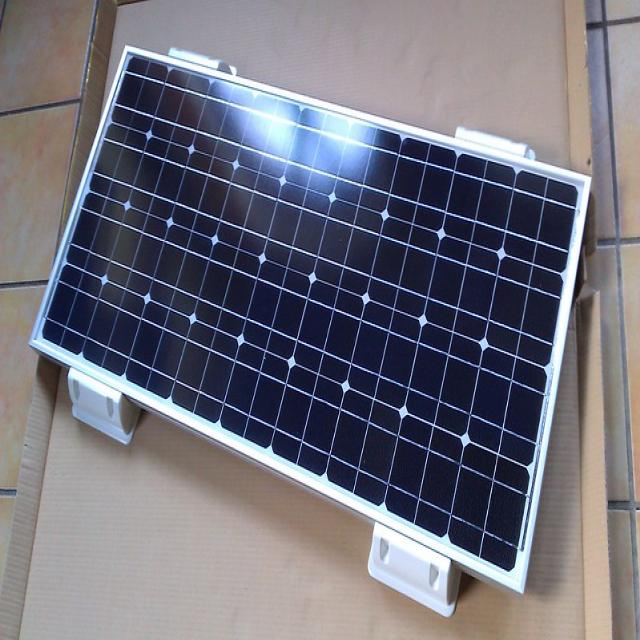no faulty: (29, 50, 584, 582)
